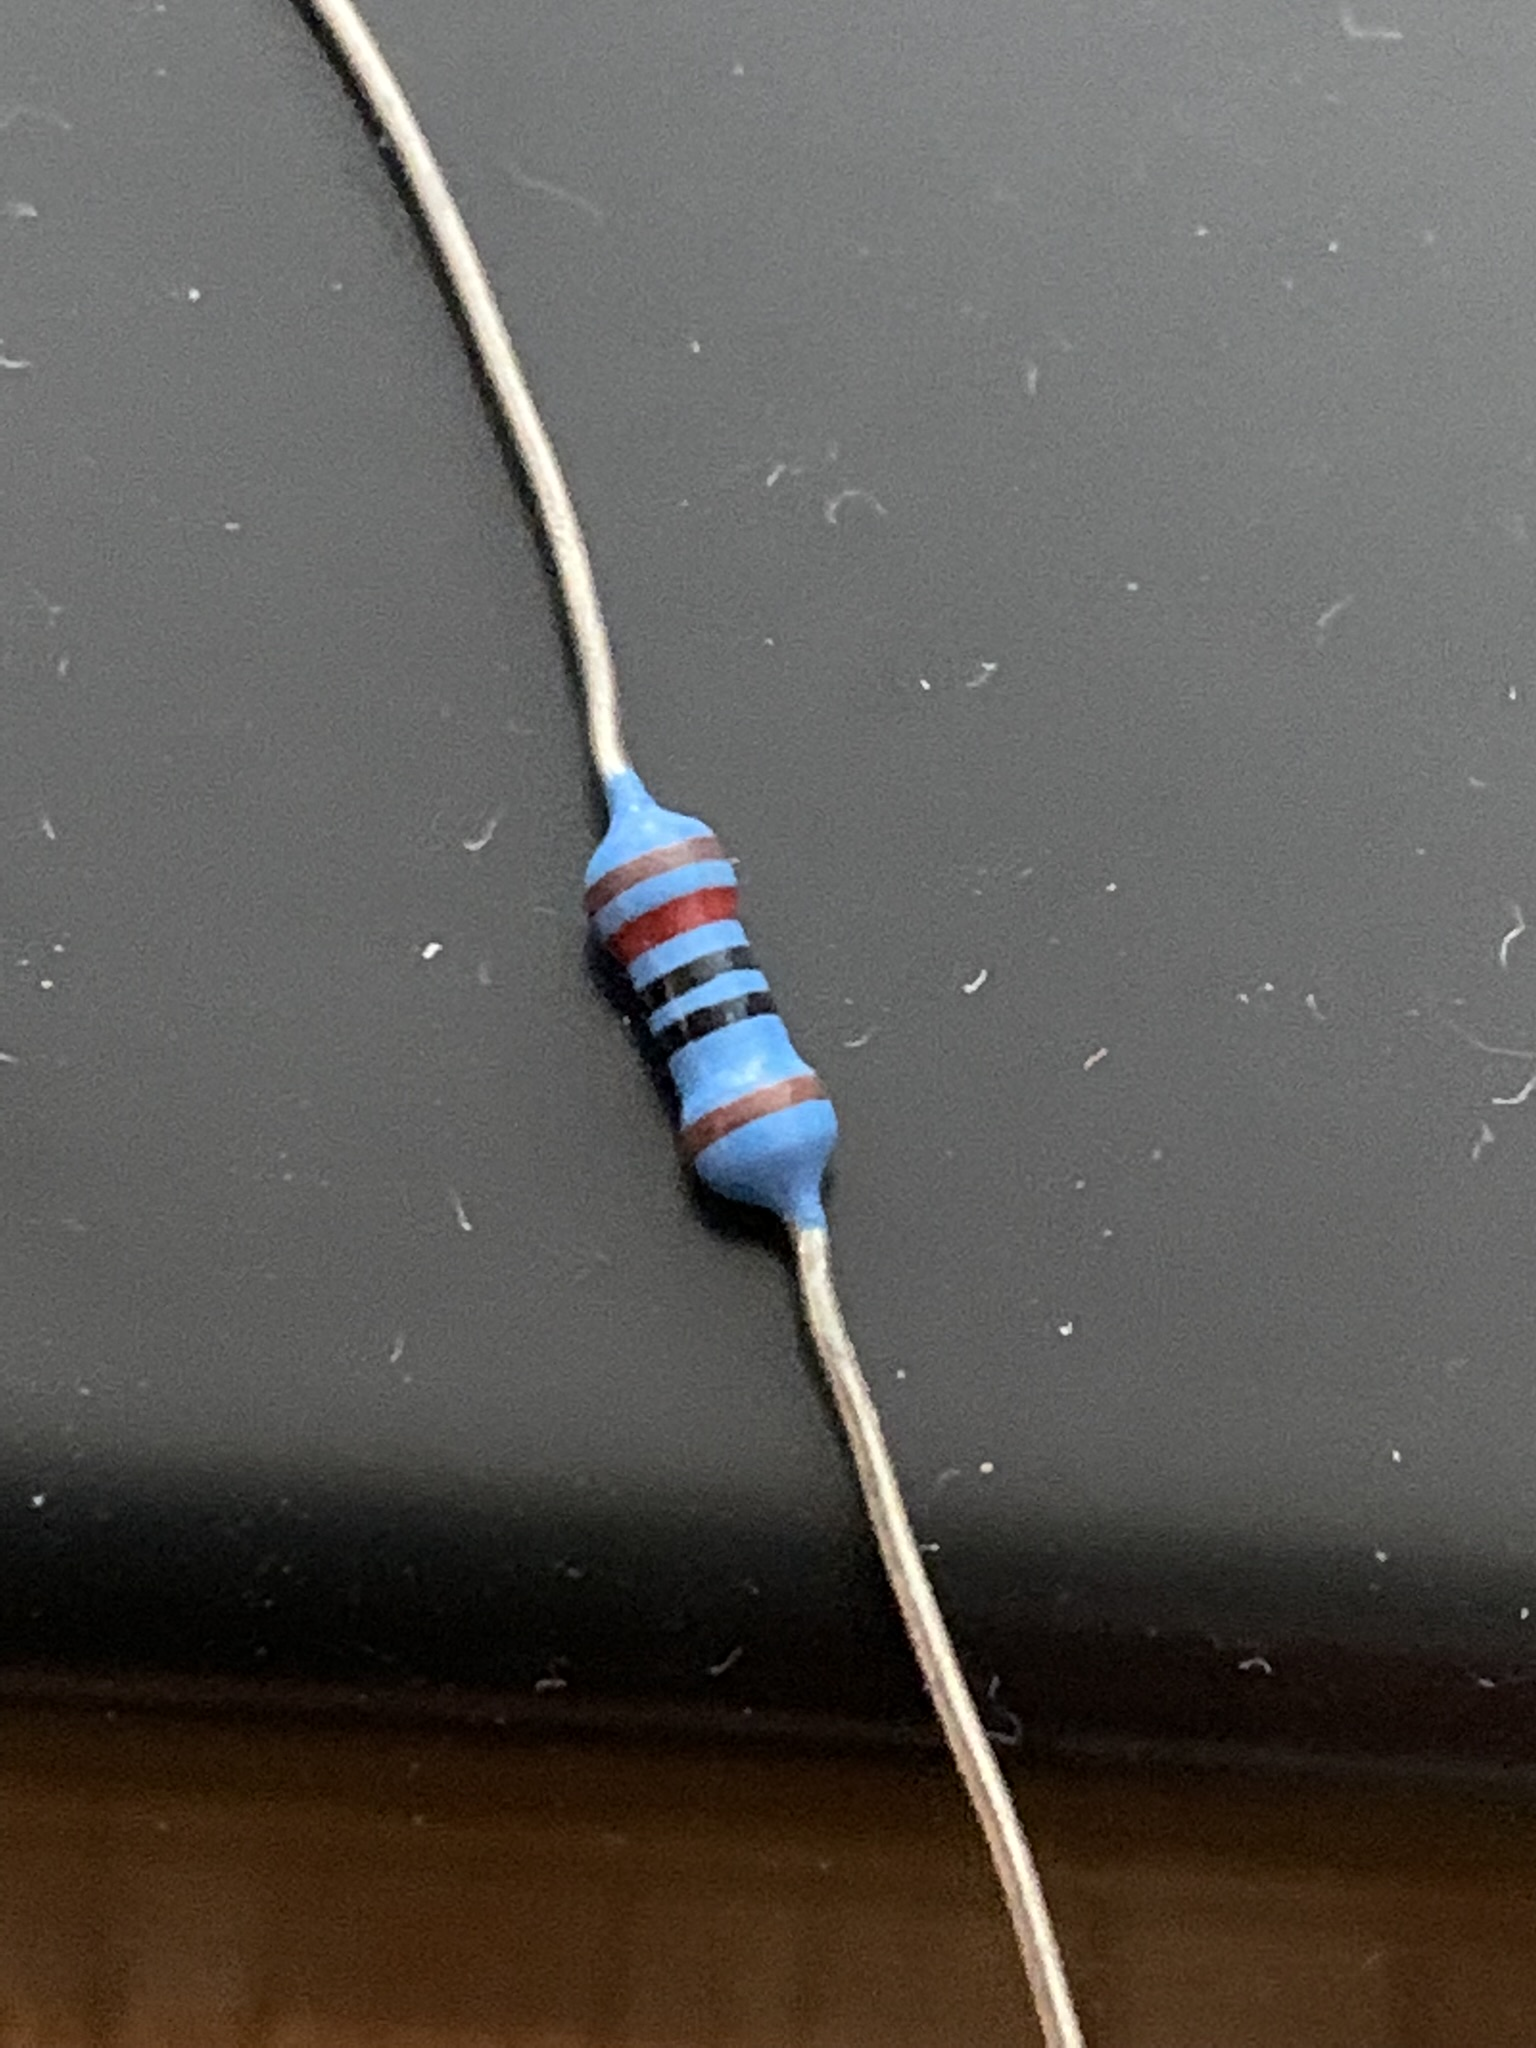resistor_thd: (578, 810, 842, 1201)
